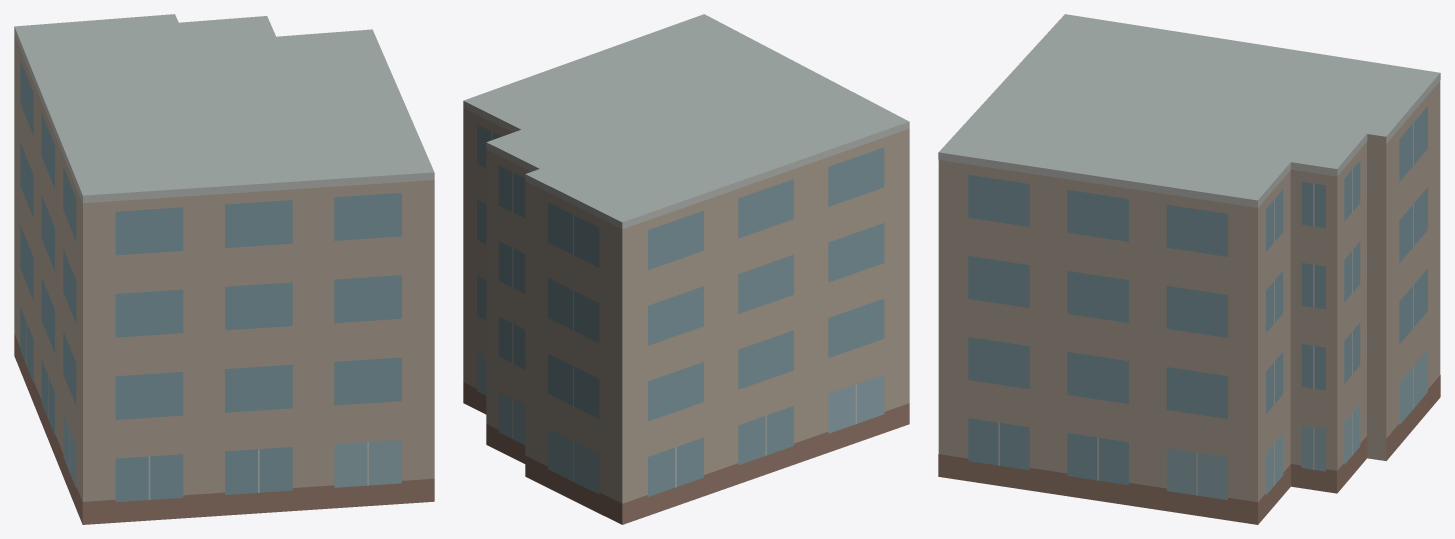
Rendered from survey-upis-32949889.glb.
3 views of the same model, side by side, from view 1: azimuth 30°, elevation 25°; view 2: azimuth 150°, elevation 25°; view 3: azimuth 270°, elevation 25° (orthographic). The views are drawn at different scales.
Visible parts, largest first — view 1: survey-upis-32949889.tmp; view 2: survey-upis-32949889.tmp; view 3: survey-upis-32949889.tmp.
Boxes of the visible parts, box(x1,y1,x2,y2) form: survey-upis-32949889.tmp: box(14, 14, 434, 524); survey-upis-32949889.tmp: box(463, 14, 909, 524); survey-upis-32949889.tmp: box(938, 14, 1440, 524).
Bounding box in the file's own units: 13.08 × 10.6 × 14.87.
